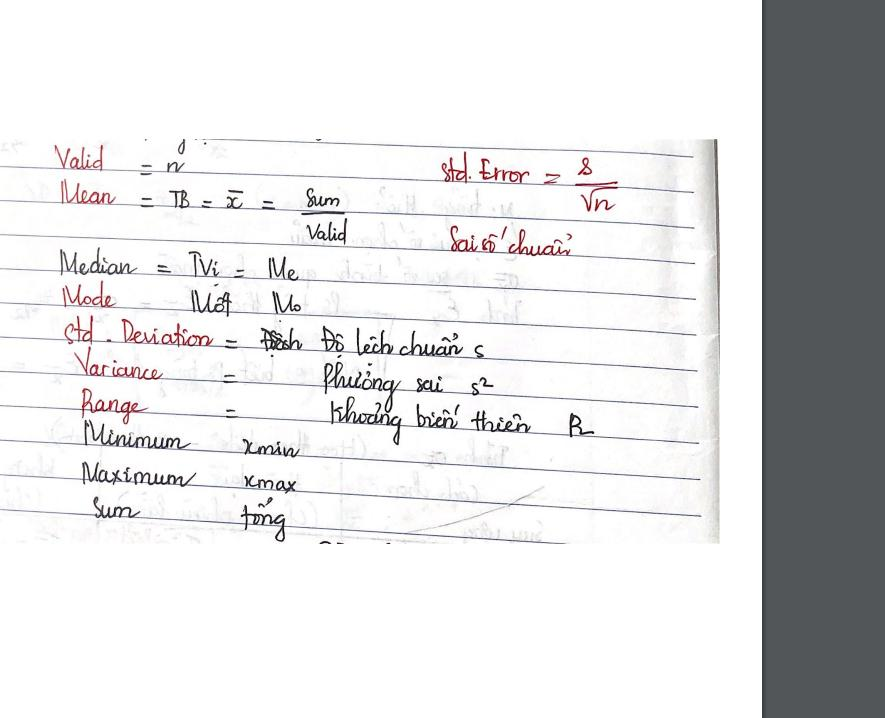text: (58, 310, 487, 363), (320, 394, 598, 448), (441, 151, 622, 213), (54, 179, 347, 217), (56, 242, 302, 285), (320, 360, 498, 413), (447, 224, 575, 260), (80, 418, 193, 454), (80, 458, 200, 491), (70, 347, 168, 384), (79, 386, 152, 425), (238, 496, 289, 546), (53, 141, 103, 174), (240, 434, 303, 460), (61, 280, 117, 309), (91, 492, 143, 523), (243, 469, 299, 497), (188, 290, 234, 318), (307, 219, 352, 245), (270, 290, 302, 317), (138, 161, 187, 177), (221, 370, 239, 385), (223, 406, 239, 420)
